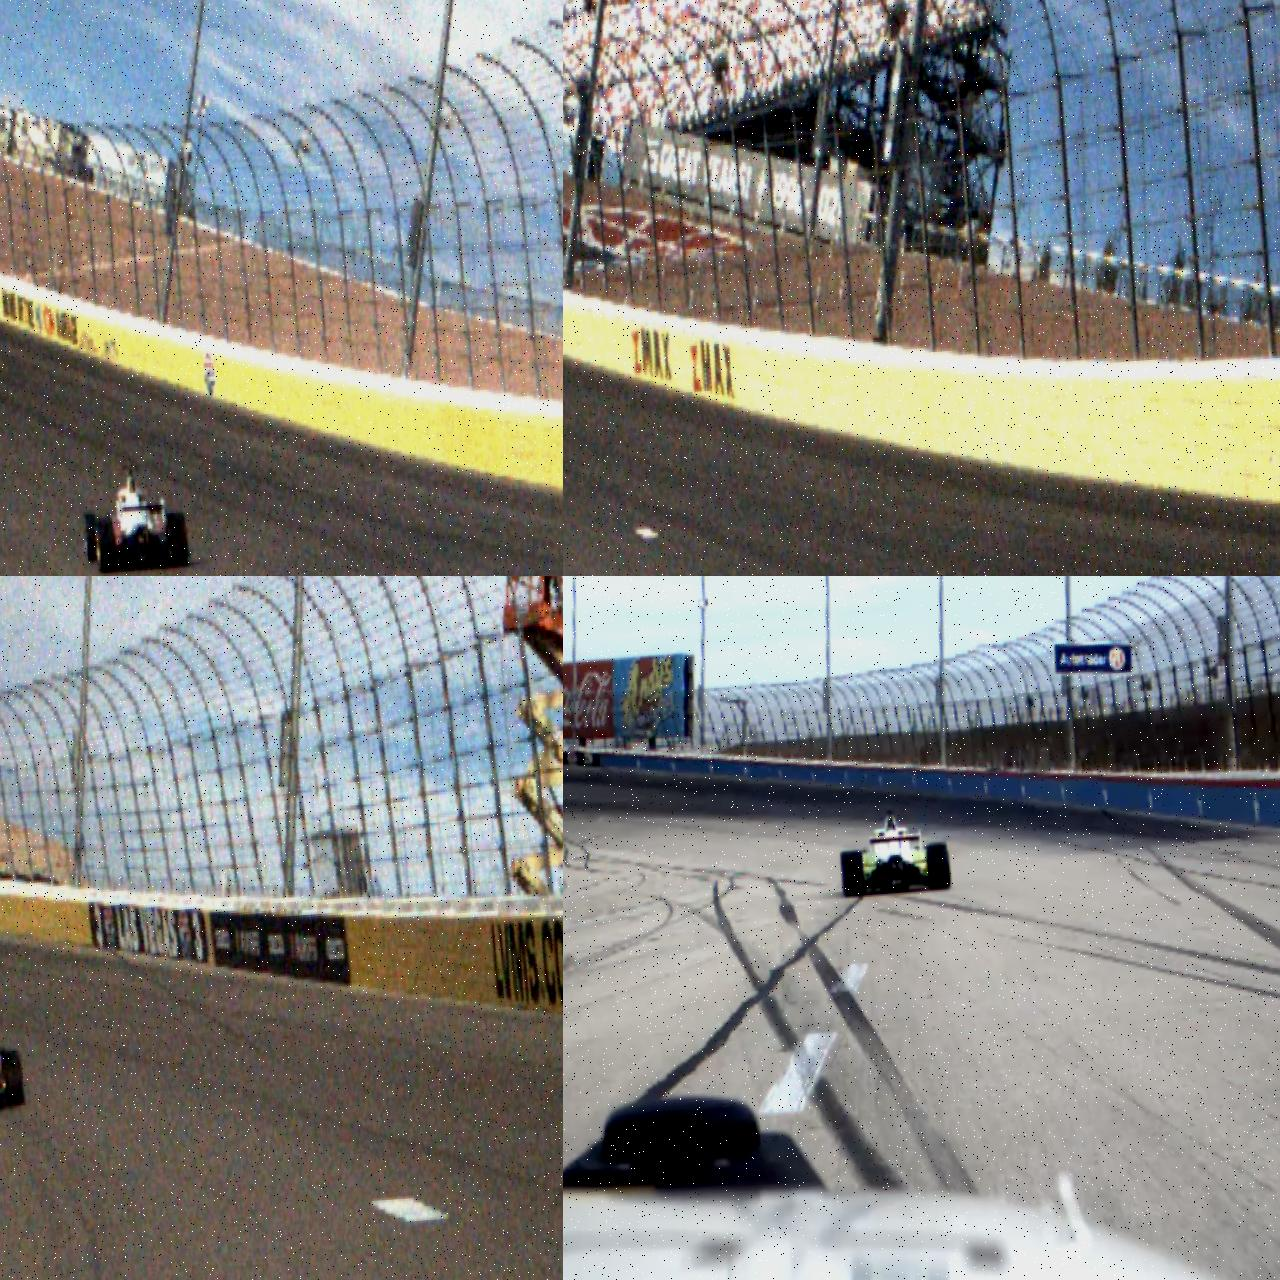AV: (79, 462, 191, 576), (837, 806, 952, 897), (0, 1007, 25, 1125)
Wheel: (168, 511, 191, 568), (96, 516, 118, 573), (1, 1049, 23, 1107), (926, 843, 952, 891), (840, 849, 866, 897), (84, 512, 100, 563)
